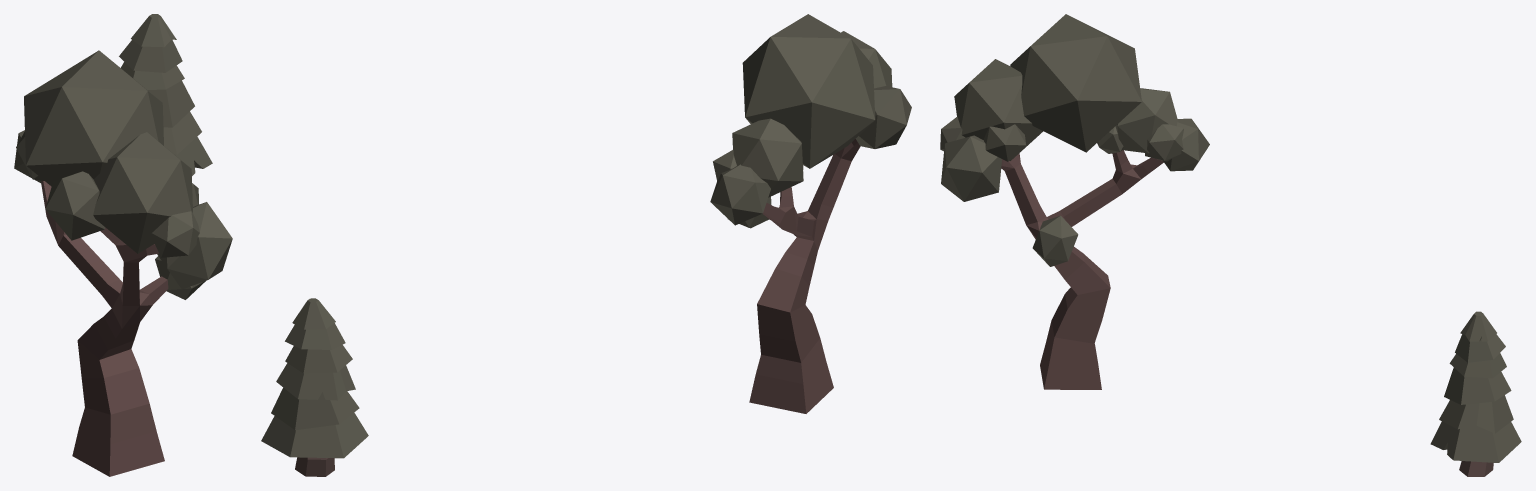
Rendered from Trees.fbx.
3 renders of one model, left to right at view 1: azimuth 30°, elevation 25°; view 2: azimuth 150°, elevation 25°; view 3: azimuth 270°, elevation 25°, orthographic. The views are drawn at different scales.
Visible parts, largest first — view 1: Cube, Icosphere.007, Icosphere.006, Icosphere.001, Icosphere, Icosphere.010, Cylinder.005, Cylinder.003, Cylinder.006, Cylinder.002, Cylinder.004, Cylinder.001 (+3 smaller); view 2: Icosphere.007, Cube, Icosphere.005, Cylinder.001, Icosphere.004, Cylinder.002, Icosphere, Cylinder.003, Cylinder.004, Cylinder.005, Cylinder.006, Icosphere.006 (+1 smaller); view 3: Icosphere.007, Cube, Icosphere.006, Icosphere.001, Cylinder.001, Icosphere.005, Cylinder.002, Cylinder.003, Icosphere.002, Icosphere.004, Icosphere.008, Icosphere.009 (+3 smaller).
Part boxes in pixels (x1,y1,x2,y2): Cube: (41,180,168,476); Icosphere.007: (24,50,163,186); Icosphere.006: (93,132,192,253); Icosphere.001: (157,202,232,289); Icosphere: (45,171,105,240); Icosphere.010: (151,211,199,257); Cylinder.005: (119,39,182,72); Cylinder.003: (147,80,194,127); Cylinder.006: (131,14,176,47); Cylinder.002: (163,111,201,154); Cylinder.004: (121,62,184,89); Cylinder.001: (174,136,212,175); Icosphere.007: (742,14,875,168); Cube: (749,139,860,413); Icosphere.005: (732,118,803,197); Cylinder.001: (261,412,368,458); Icosphere.004: (710,164,770,225); Cylinder.002: (271,387,359,430); Icosphere: (855,86,911,148); Cylinder.003: (276,363,355,400); Cylinder.004: (285,345,352,373); Cylinder.005: (285,323,345,349); Cylinder.006: (292,298,335,329); Icosphere.006: (841,31,892,88); Icosphere.007: (1010,14,1141,152); Cube: (1001,150,1163,389); Icosphere.006: (954,59,1043,160); Icosphere.001: (941,135,1001,201); Cylinder.001: (1430,421,1521,462); Icosphere.005: (1115,88,1178,153); Cylinder.002: (1439,395,1513,433); Cylinder.003: (1444,367,1511,404); Icosphere.002: (1032,215,1078,266); Icosphere.004: (1163,118,1209,171); Icosphere.008: (983,124,1025,161); Icosphere.009: (1145,124,1183,161).
Bounding box in the file's own units: 711 × 651 × 1000.
